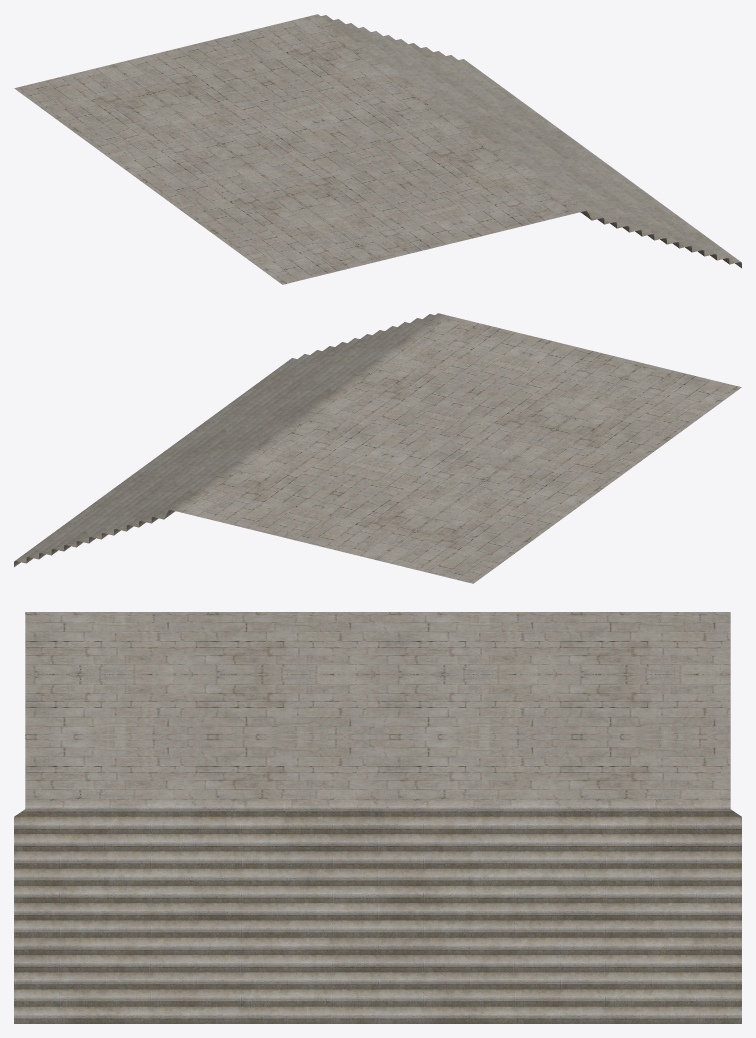
The model's file is Stairs3.fbx.
3 renders of one model, top to bottom at view 1: azimuth 30°, elevation 25°; view 2: azimuth 150°, elevation 25°; view 3: azimuth 270°, elevation 25°, orthographic. The views are drawn at different scales.
Parts seen in each view (by area): view 1: LV_Campagna_Uni_BigStair02_SM_HSH; view 2: LV_Campagna_Uni_BigStair02_SM_HSH; view 3: LV_Campagna_Uni_BigStair02_SM_HSH.
Part boxes in pixels (<box>): LV_Campagna_Uni_BigStair02_SM_HSH: <box>14,14,741,284</box>; LV_Campagna_Uni_BigStair02_SM_HSH: <box>14,313,741,583</box>; LV_Campagna_Uni_BigStair02_SM_HSH: <box>14,612,741,1023</box>.
Size of the model in its own units: 3.64 by 0.7 by 3.84.
